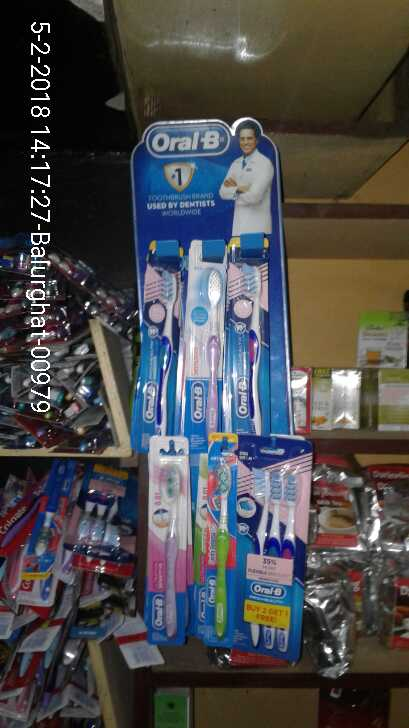oralb: (239, 456, 302, 653), (139, 263, 178, 436), (149, 455, 185, 639), (231, 272, 272, 433), (206, 458, 233, 639), (196, 265, 225, 428)
